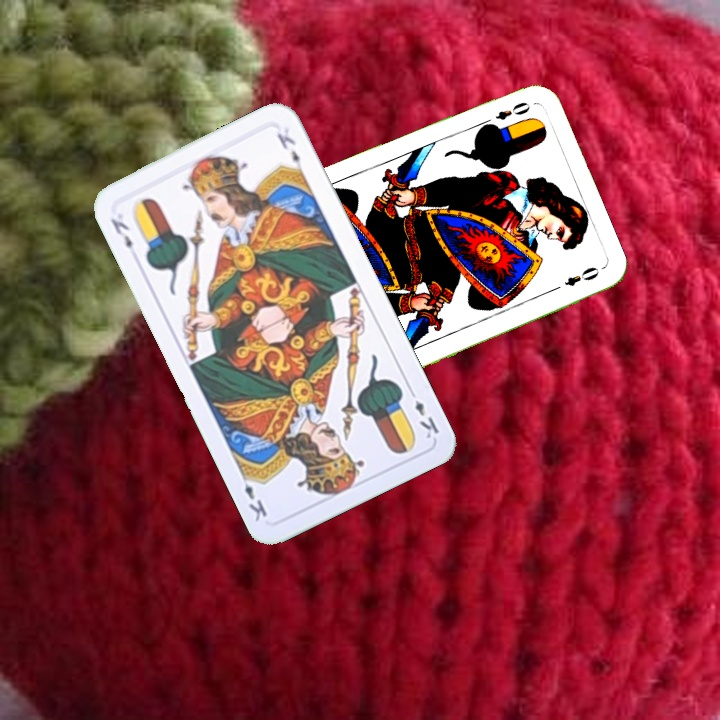EK: (404, 384, 442, 442), (106, 214, 135, 252)
EO: (477, 98, 533, 129)
